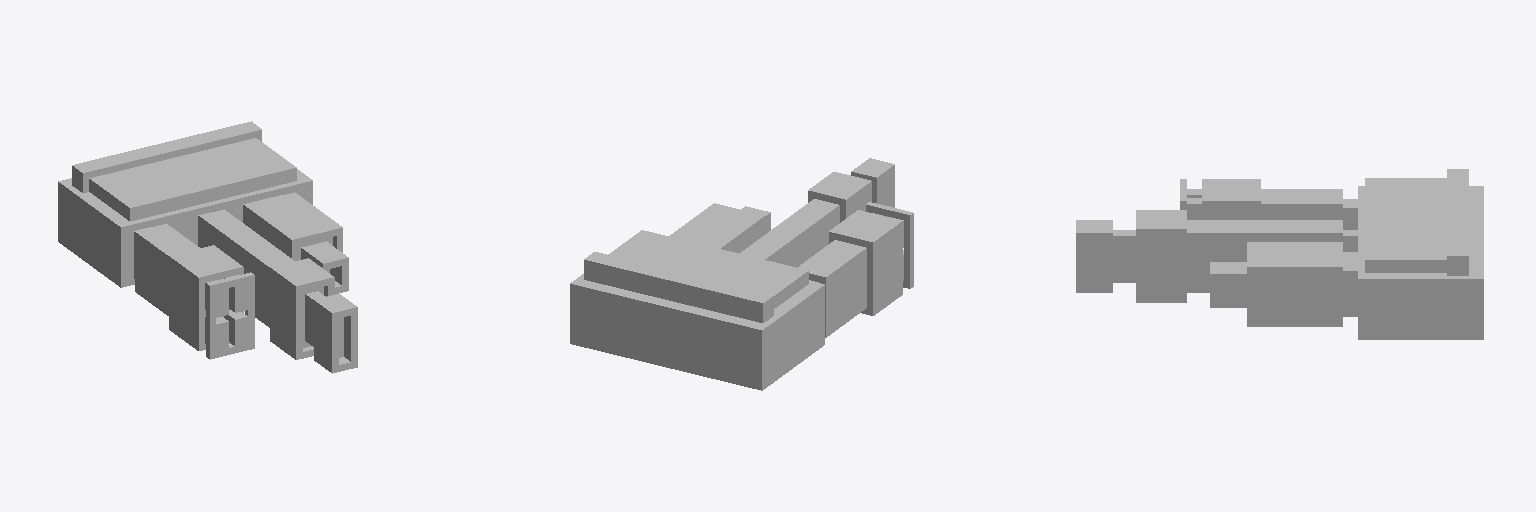
File: probe droid arms.obj
The picture shows the model from 3 angles: view 1: azimuth 30°, elevation 25°; view 2: azimuth 150°, elevation 25°; view 3: azimuth 270°, elevation 25°; orthographic projection.
Parts seen in each view (by area): view 1: object 1; view 2: object 1; view 3: object 1.
Boxes of the visible parts, box(x1,y1,x2,y2) form: object 1: box(58, 121, 357, 373); object 1: box(570, 158, 913, 390); object 1: box(1076, 169, 1483, 339).
Size of the model in its own units: 3 by 1.3 by 5.5.